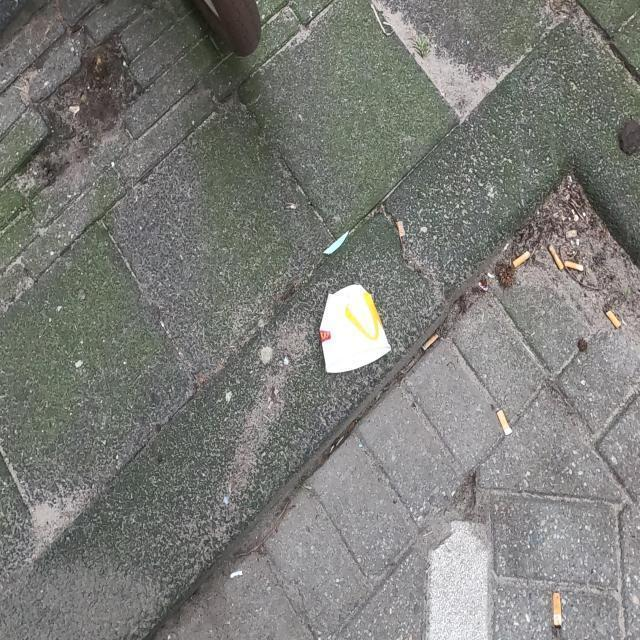Cup: (318, 281, 392, 375)
